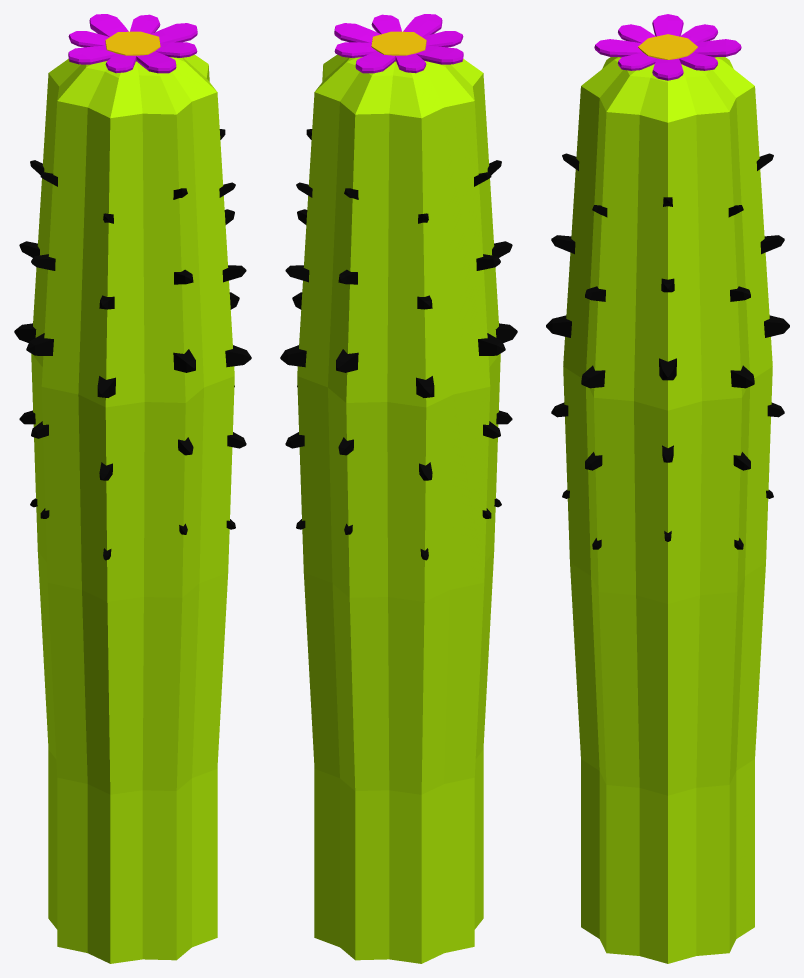
File: Cardon05_00Brazos_Flor_Magenta.fbx
3 renders of one model, left to right at view 1: azimuth 30°, elevation 25°; view 2: azimuth 150°, elevation 25°; view 3: azimuth 270°, elevation 25°, orthographic.
Visible parts, largest first — view 1: Cactus, Espinas, Flor_Magenta; view 2: Cactus, Espinas, Flor_Magenta; view 3: Cactus, Espinas, Flor_Magenta.
Boxes of the visible parts, bbox=[...] form: Cactus: bbox=[31, 54, 234, 963]; Espinas: bbox=[14, 129, 251, 560]; Flor_Magenta: bbox=[68, 14, 197, 73]; Cactus: bbox=[297, 54, 500, 963]; Espinas: bbox=[280, 129, 517, 560]; Flor_Magenta: bbox=[334, 14, 463, 73]; Cactus: bbox=[563, 57, 772, 963]; Espinas: bbox=[546, 153, 789, 549]; Flor_Magenta: bbox=[594, 14, 741, 80].
Bounding box in the file's own units: 53.18 × 212 × 53.18.
